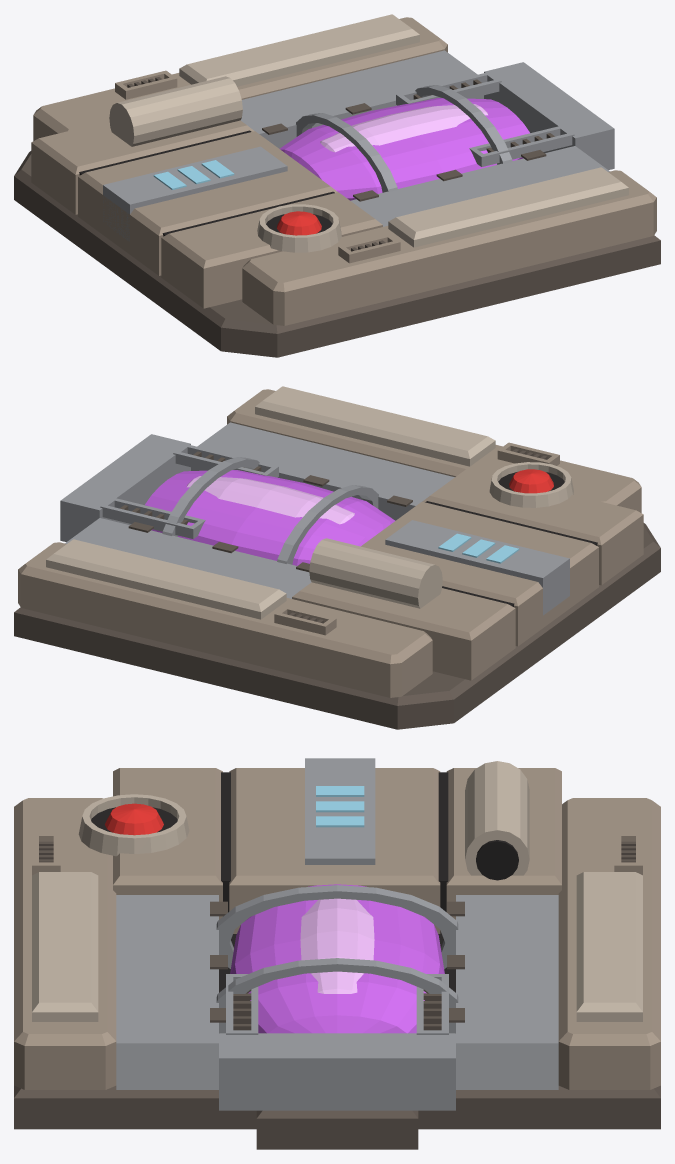
The model's file is vge_mgun_inferno_artillery.obj.
3 views of the same model, one above another, from view 1: azimuth 30°, elevation 25°; view 2: azimuth 150°, elevation 25°; view 3: azimuth 270°, elevation 25° (orthographic). The views are drawn at different scales.
Visible parts, largest first — view 1: vge_mgun_inferno_artillery_1, vge_mgun_inferno_artillery_19, vge_mgun_inferno_artillery_74, vge_mgun_inferno_artillery_7, vge_mgun_inferno_artillery_20, vge_mgun_inferno_artillery_59, vge_mgun_inferno_artillery_47, vge_mgun_inferno_artillery_14, vge_mgun_inferno_artillery_22, vge_mgun_inferno_artillery_36, vge_mgun_inferno_artillery_71, vge_mgun_inferno_artillery_2 (+22 smaller); view 2: vge_mgun_inferno_artillery_1, vge_mgun_inferno_artillery_33, vge_mgun_inferno_artillery_74, vge_mgun_inferno_artillery_34, vge_mgun_inferno_artillery_47, vge_mgun_inferno_artillery_7, vge_mgun_inferno_artillery_59, vge_mgun_inferno_artillery_20, vge_mgun_inferno_artillery_5, vge_mgun_inferno_artillery_14, vge_mgun_inferno_artillery_22, vge_mgun_inferno_artillery_36 (+21 smaller); view 3: vge_mgun_inferno_artillery_1, vge_mgun_inferno_artillery_47, vge_mgun_inferno_artillery_59, vge_mgun_inferno_artillery_71, vge_mgun_inferno_artillery_7, vge_mgun_inferno_artillery_74, vge_mgun_inferno_artillery_34, vge_mgun_inferno_artillery_20, vge_mgun_inferno_artillery_22, vge_mgun_inferno_artillery_36, vge_mgun_inferno_artillery_5, vge_mgun_inferno_artillery_9 (+19 smaller).
Part boxes in pixels (x1,y1,x2,y2): vge_mgun_inferno_artillery_1: [14, 176, 660, 357]; vge_mgun_inferno_artillery_19: [242, 197, 656, 325]; vge_mgun_inferno_artillery_74: [279, 98, 529, 200]; vge_mgun_inferno_artillery_7: [78, 131, 337, 235]; vge_mgun_inferno_artillery_20: [242, 170, 656, 292]; vge_mgun_inferno_artillery_59: [240, 50, 483, 148]; vge_mgun_inferno_artillery_47: [350, 146, 609, 226]; vge_mgun_inferno_artillery_14: [109, 76, 242, 146]; vge_mgun_inferno_artillery_22: [388, 167, 628, 239]; vge_mgun_inferno_artillery_36: [179, 14, 419, 82]; vge_mgun_inferno_artillery_71: [484, 62, 614, 169]; vge_mgun_inferno_artillery_2: [14, 151, 660, 333]; vge_mgun_inferno_artillery_1: [14, 548, 660, 729]; vge_mgun_inferno_artillery_33: [18, 569, 432, 697]; vge_mgun_inferno_artillery_74: [145, 470, 395, 565]; vge_mgun_inferno_artillery_34: [18, 542, 432, 664]; vge_mgun_inferno_artillery_47: [191, 422, 454, 520]; vge_mgun_inferno_artillery_7: [361, 501, 598, 606]; vge_mgun_inferno_artillery_59: [65, 518, 311, 598]; vge_mgun_inferno_artillery_20: [227, 389, 641, 505]; vge_mgun_inferno_artillery_5: [423, 469, 643, 545]; vge_mgun_inferno_artillery_14: [309, 538, 442, 608]; vge_mgun_inferno_artillery_22: [255, 386, 495, 458]; vge_mgun_inferno_artillery_36: [46, 539, 286, 611]; vge_mgun_inferno_artillery_1: [14, 1098, 660, 1149]; vge_mgun_inferno_artillery_47: [116, 895, 218, 1089]; vge_mgun_inferno_artillery_59: [456, 895, 558, 1089]; vge_mgun_inferno_artillery_71: [219, 1033, 455, 1110]; vge_mgun_inferno_artillery_7: [229, 768, 440, 885]; vge_mgun_inferno_artillery_74: [230, 884, 444, 1033]; vge_mgun_inferno_artillery_34: [558, 798, 660, 1045]; vge_mgun_inferno_artillery_20: [14, 798, 116, 1045]; vge_mgun_inferno_artillery_22: [32, 872, 98, 1012]; vge_mgun_inferno_artillery_36: [576, 872, 642, 1012]; vge_mgun_inferno_artillery_5: [113, 768, 222, 885]; vge_mgun_inferno_artillery_9: [446, 768, 561, 885].
Bounding box in the file's own units: 3.78 × 1.04 × 3.6.
